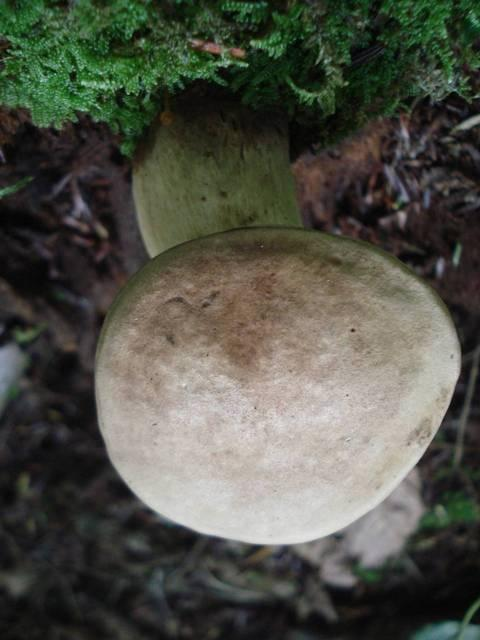poisonous_mushroom: (92, 222, 462, 546)
